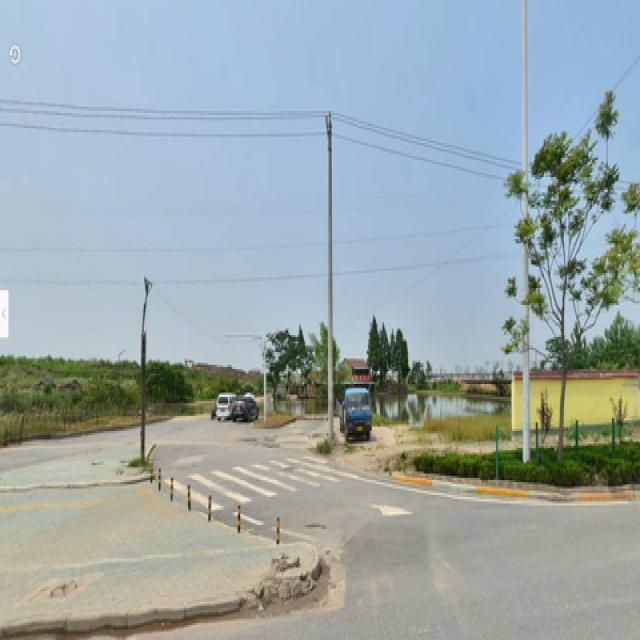koel: (507, 137, 608, 465)
